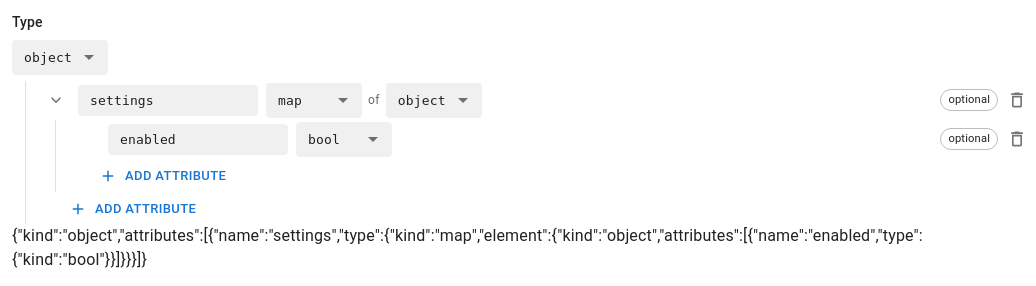
Test: TypeEditor › collapses and expands nested object definitions
Expected: the 2nd field showing "enabled" is shown, [108,124,288,155]
Click the button named "settings definition".
click(56, 100)  # box [42,86,70,114]
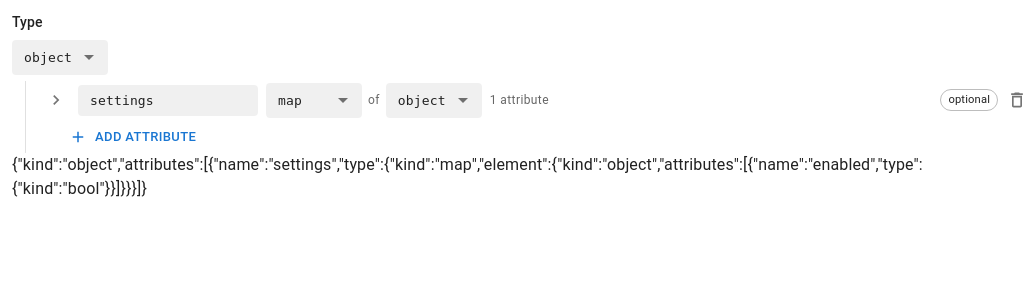
Expected: the button named "settings definition" is collapsed
Expected: the text "1 attribute" is shown, [490,90,549,110]
Click the button named "settings definition".
click(56, 100)  # box [42,86,70,114]
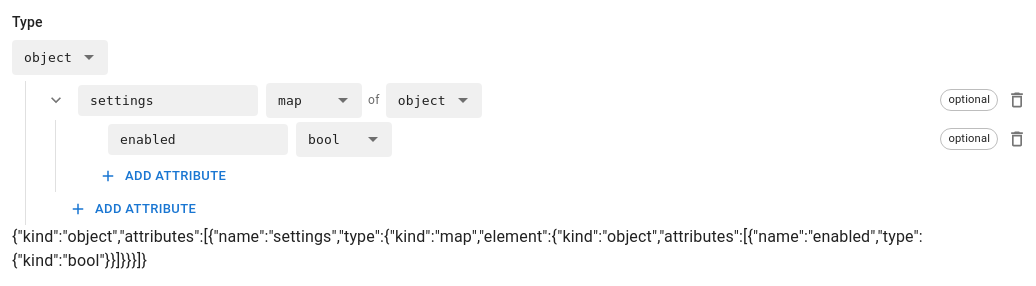
Expected: the button named "settings definition" is expanded, [42,86,70,114]
